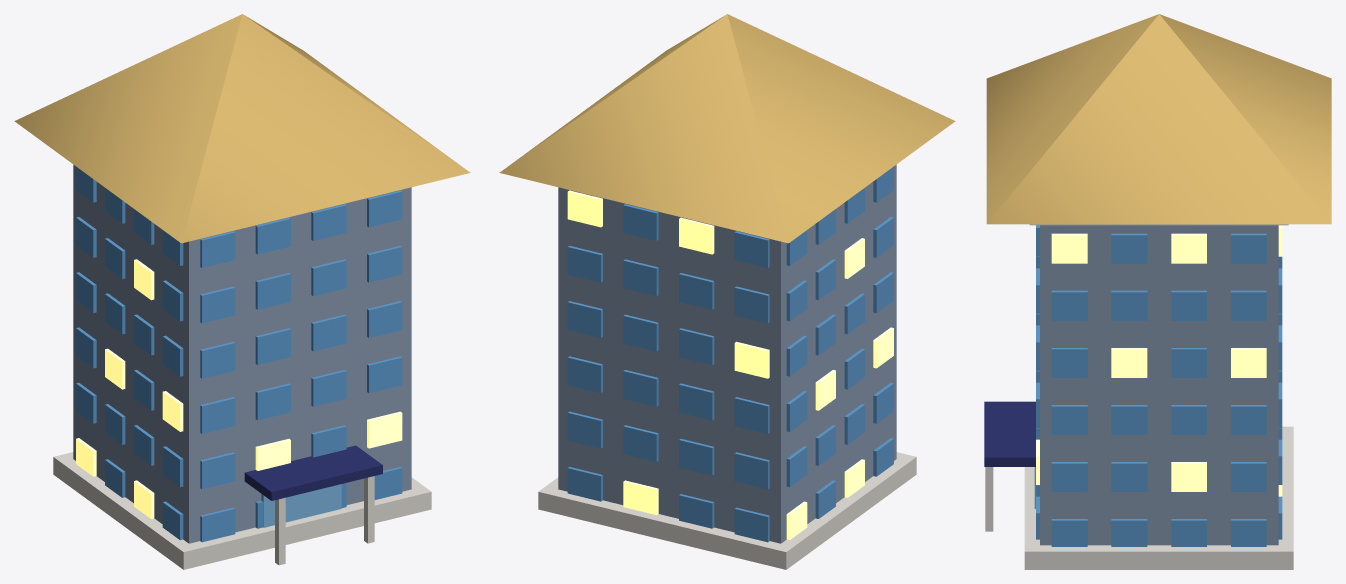
The model's file is 03_Golden_Crown_Tower.glb.
3 renders of one model, left to right at view 1: azimuth 30°, elevation 25°; view 2: azimuth 150°, elevation 25°; view 3: azimuth 270°, elevation 25°, orthographic. The views are drawn at different scales.
Parts seen in each view (by area): view 1: body, gold_crown, windows, plinth, entry_canopy, door_glass, pillar_r, pillar_l; view 2: body, gold_crown, windows, plinth; view 3: gold_crown, body, windows, plinth, entry_canopy, pillar_r, cornice.
Part boxes in pixels (left/top/right/bottom): body: left=73, top=164, right=411, bottom=543; gold_crown: left=14, top=14, right=470, bottom=243; windows: left=76, top=166, right=402, bottom=542; plinth: left=53, top=452, right=431, bottom=569; entry_canopy: left=244, top=445, right=382, bottom=500; door_glass: left=261, top=484, right=341, bottom=527; pillar_r: left=364, top=476, right=374, bottom=543; pillar_l: left=275, top=497, right=285, bottom=565; body: left=558, top=164, right=896, bottom=543; gold_crown: left=499, top=14, right=955, bottom=243; windows: left=567, top=166, right=893, bottom=542; plinth: left=538, top=452, right=916, bottom=569; gold_crown: left=986, top=14, right=1331, bottom=224; body: left=1040, top=225, right=1278, bottom=545; windows: left=1036, top=225, right=1282, bottom=546; plinth: left=1024, top=426, right=1293, bottom=569; entry_canopy: left=984, top=401, right=1035, bottom=466; pillar_r: left=985, top=467, right=993, bottom=531; cornice: left=1029, top=224, right=1288, bottom=225.
Size of the model in its own units: 3.41 by 5.39 by 3.44.
